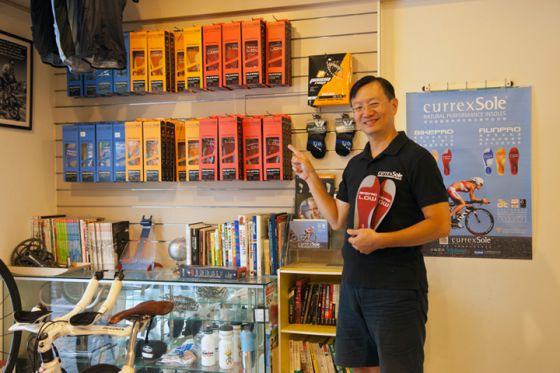Age_30_40: (351, 85, 396, 134)
E_Asian: (351, 85, 396, 134)
Emotion_Happy: (351, 85, 396, 134)
G_Male: (351, 85, 396, 134)
